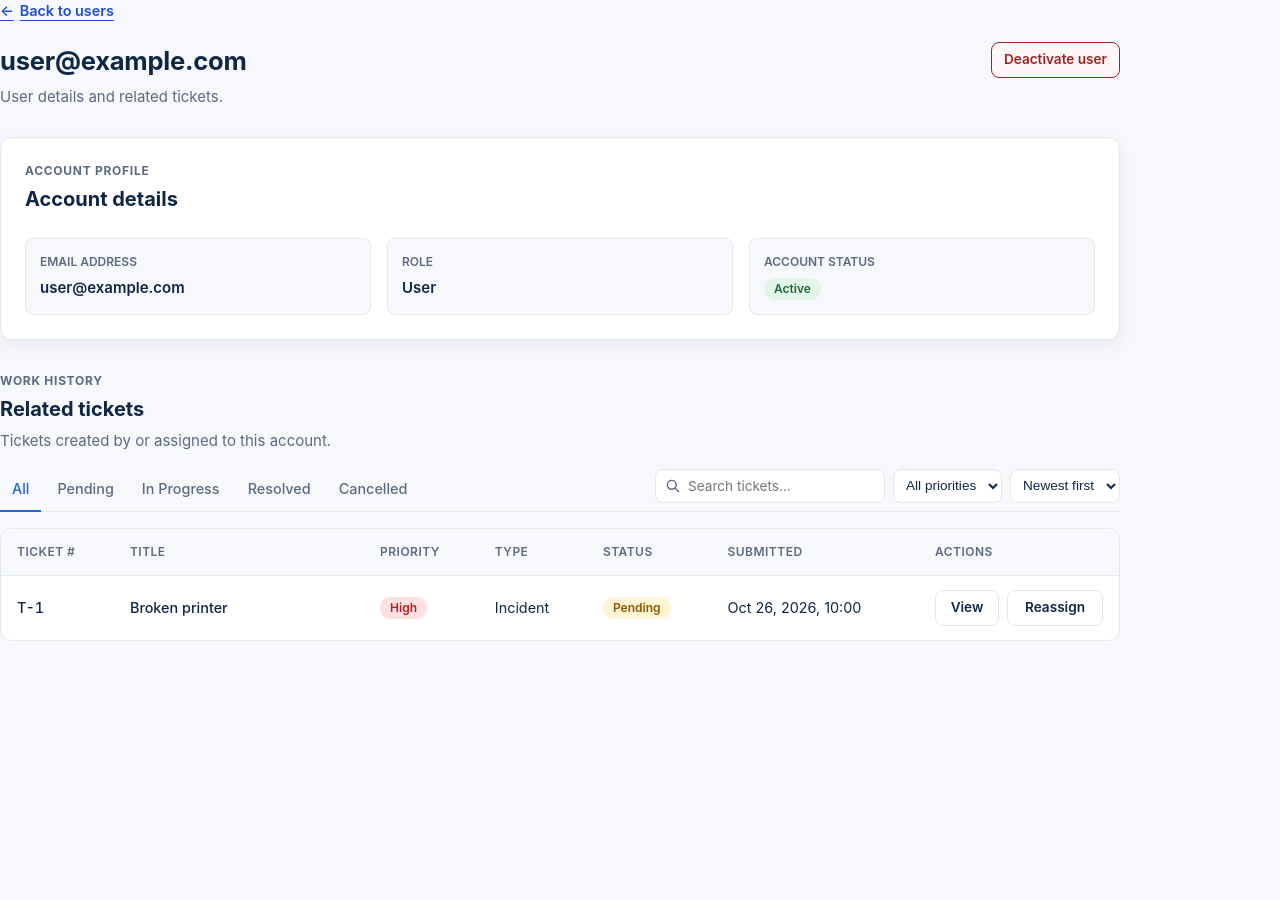
Test: UserDetailsComponent › keeps the popup open and shows the server message when reassignment fails
The image size is (1280, 900).
Click the button "Reassign".
click(1055, 608)  # box [1007, 590, 1103, 626]
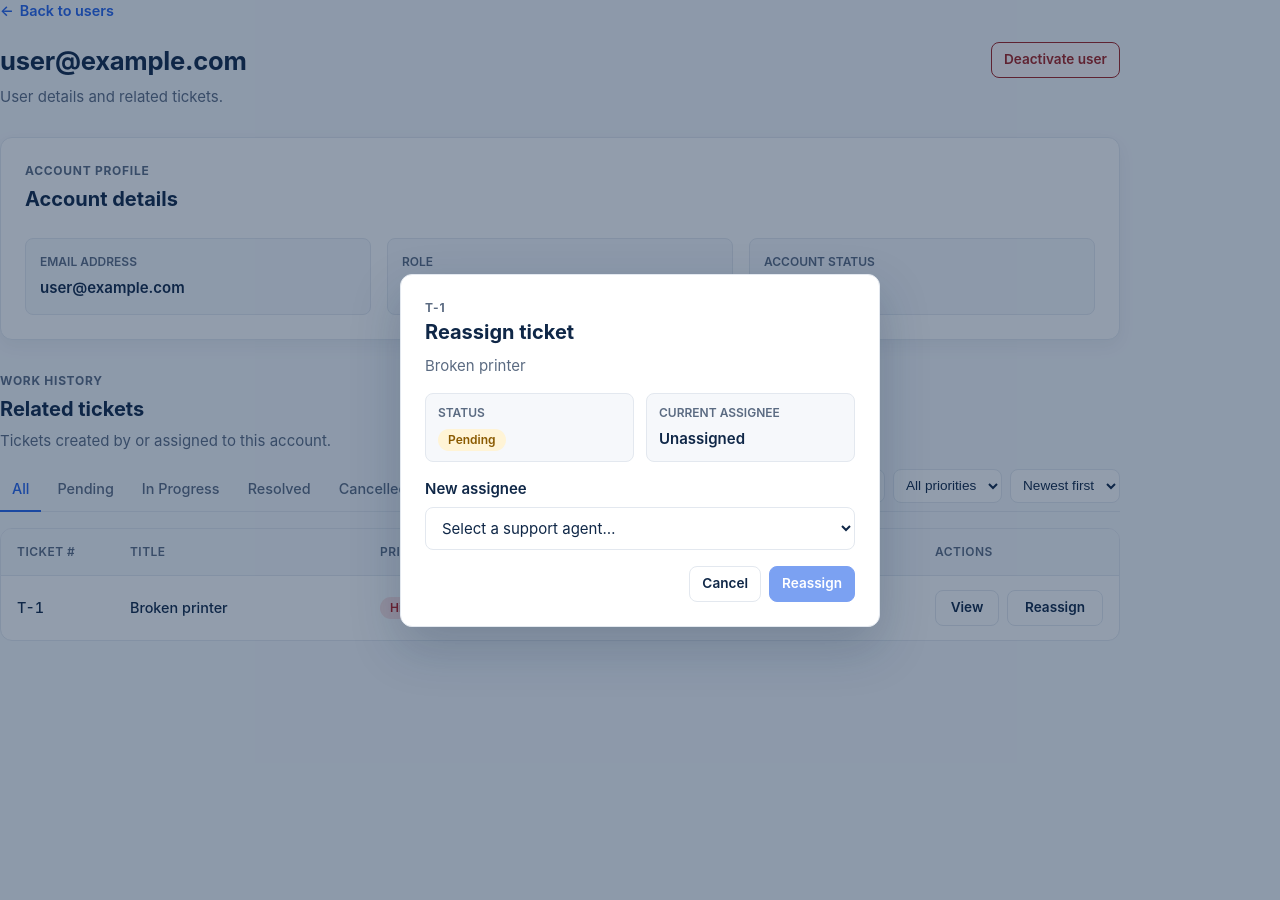
Select "agent9@example.com" in the dropdown labelled "New assignee" at (640, 528), box [425, 506, 855, 550]
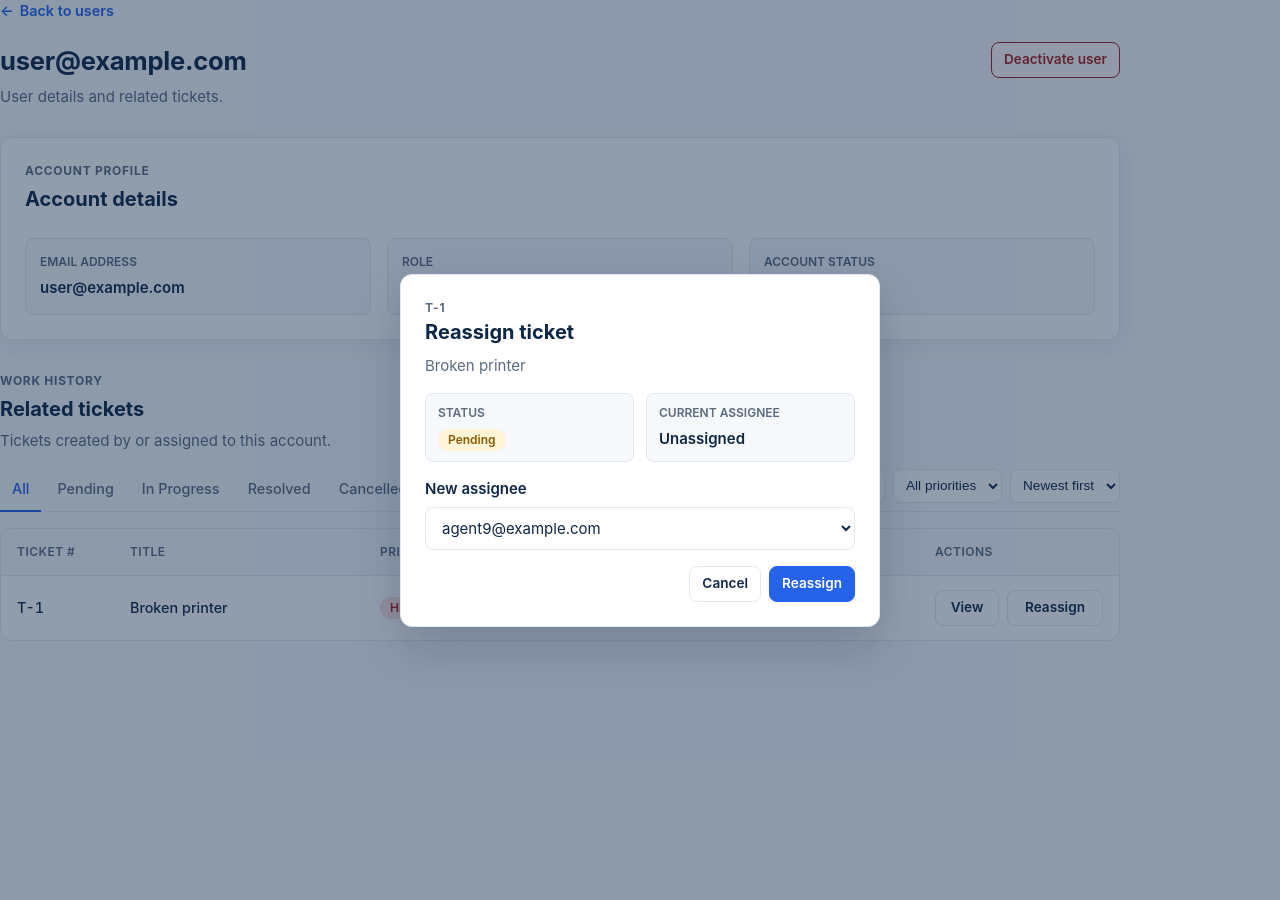
Click the button "Reassign".
click(812, 584)  # box [769, 566, 855, 602]
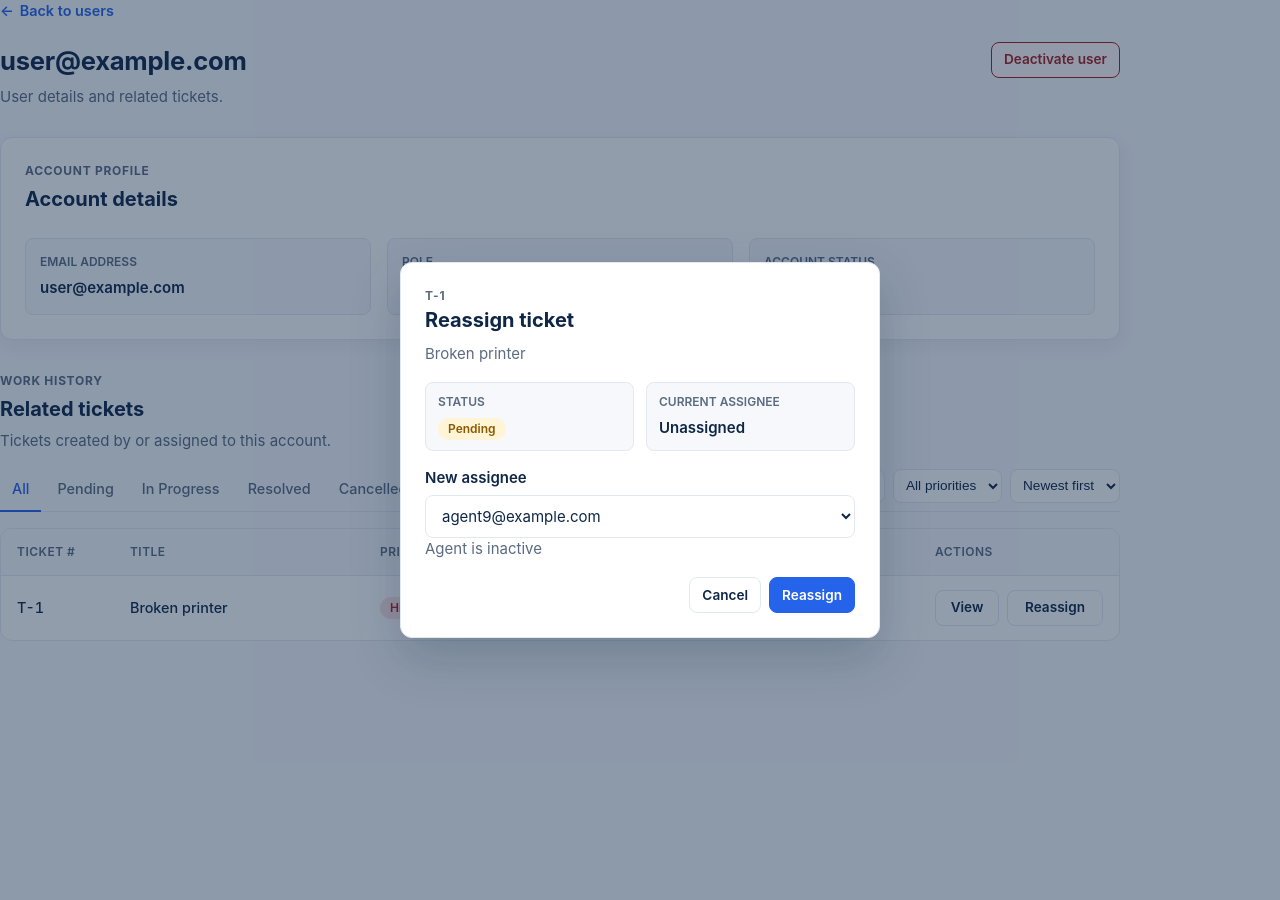
Expected: the dialog shows "Agent is inactive", [425, 539, 542, 558]
